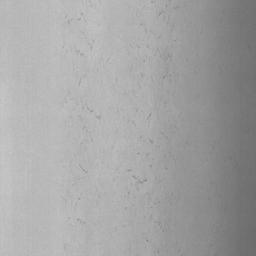Silk spot: (157, 48, 172, 62), (132, 176, 147, 185)
